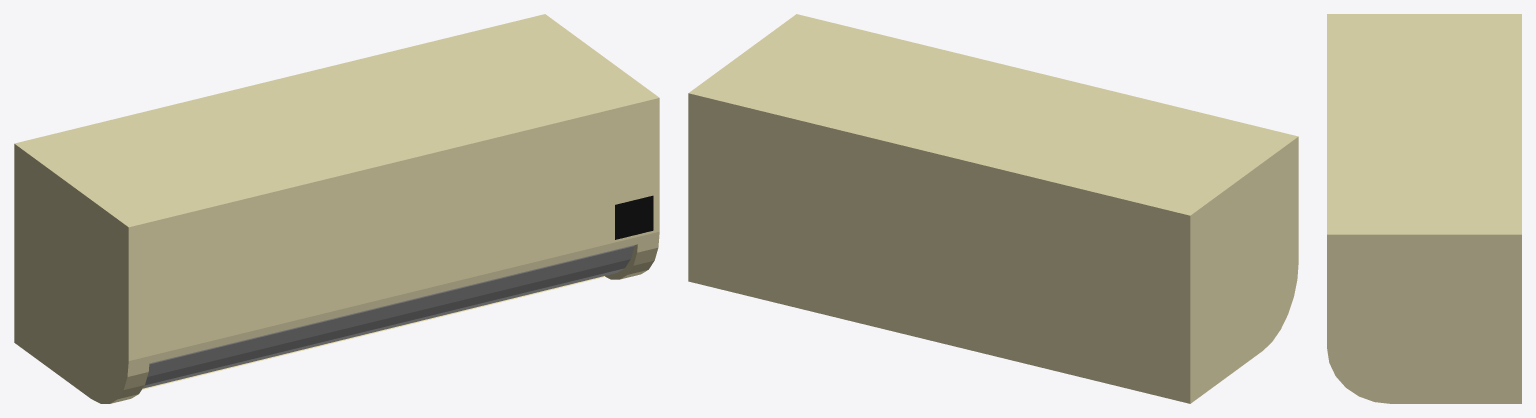
The model's file is aircooler.fbx.
The picture shows the model from 3 angles, left to right: view 1: azimuth 30°, elevation 25°; view 2: azimuth 150°, elevation 25°; view 3: azimuth 270°, elevation 25°; orthographic projection. The views are drawn at different scales.
Visible parts, largest first — view 1: AirCooler; view 2: AirCooler; view 3: AirCooler.
Boxes of the visible parts, x1=… form: AirCooler: x1=14, y1=14, x2=659, y2=403; AirCooler: x1=688, y1=14, x2=1298, y2=403; AirCooler: x1=1327, y1=14, x2=1521, y2=403.
Size of the model in its own units: 369 by 132 by 138.
